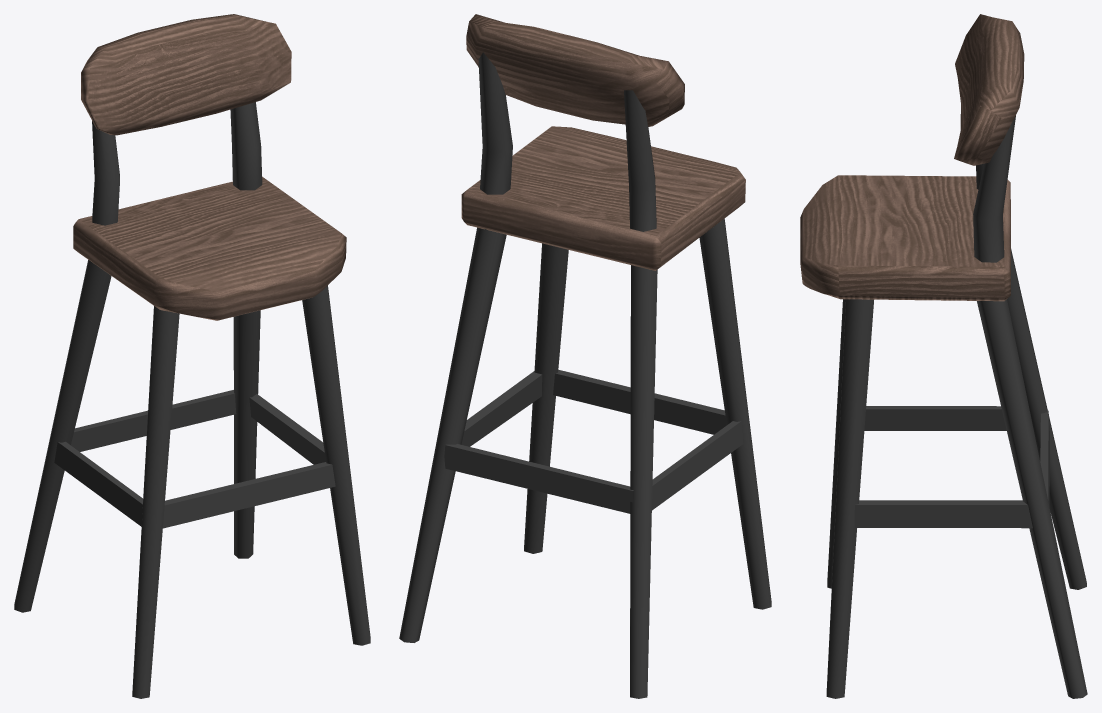
Rendered from chair_035.fbx.
3 views of the same model, side by side, from view 1: azimuth 30°, elevation 25°; view 2: azimuth 150°, elevation 25°; view 3: azimuth 270°, elevation 25° (orthographic). The views are drawn at different scales.
Visible parts, largest first — view 1: chair_035; view 2: chair_035; view 3: chair_035.
Part boxes in pixels (box(x1,y1,x2,y2)): chair_035: box(14, 14, 370, 698); chair_035: box(399, 14, 771, 698); chair_035: box(800, 14, 1087, 698).
Bounding box in the file's own units: 60.4 × 61.89 × 141.
